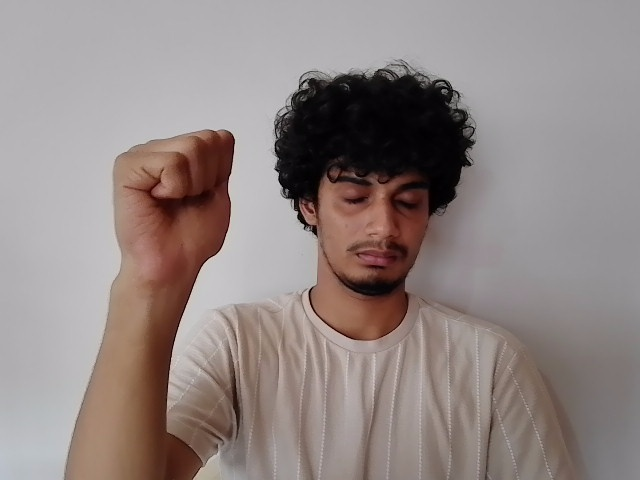how: (107, 126, 249, 266)
